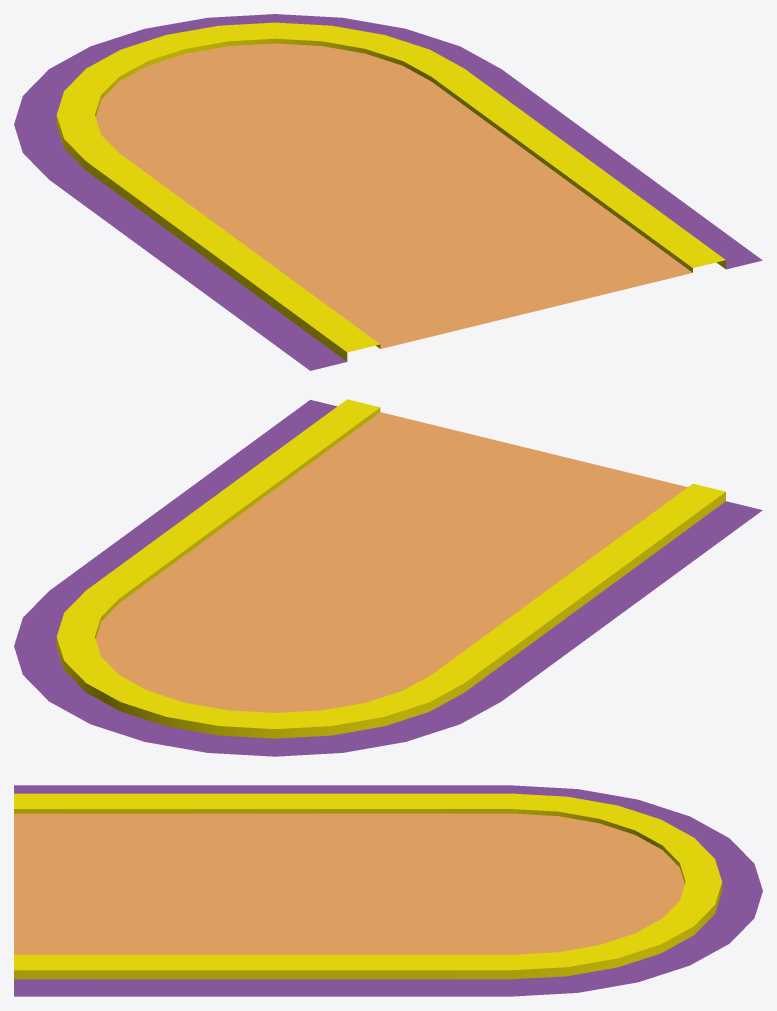
File: roadEnd.glb
3 renders of one model, top to bottom at view 1: azimuth 30°, elevation 25°; view 2: azimuth 150°, elevation 25°; view 3: azimuth 270°, elevation 25°, orthographic. The views are drawn at different scales.
Visible parts, largest first — view 1: roadEnd(Clone); view 2: roadEnd(Clone); view 3: roadEnd(Clone).
Part boxes in pixels (<box>): roadEnd(Clone): <box>14,14,762,370</box>; roadEnd(Clone): <box>14,399,762,756</box>; roadEnd(Clone): <box>14,785,762,996</box>.
Size of the model in its own units: 1 by 0.02 by 1.5.
